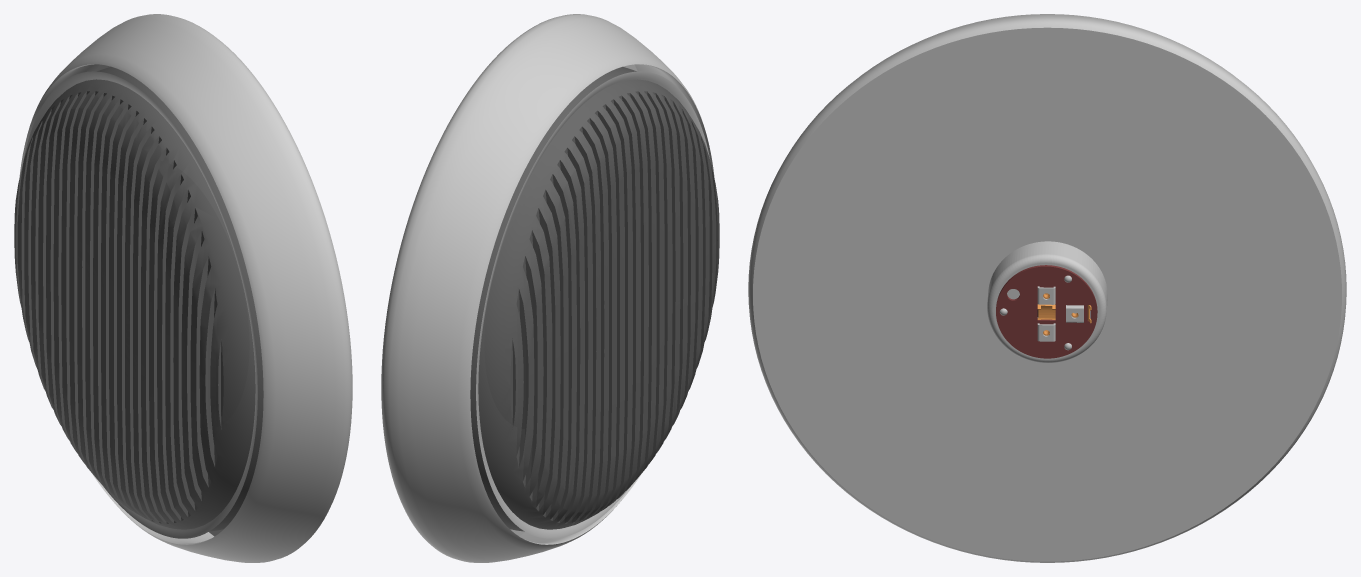
The model's file is headlight.obj.
The picture shows the model from 3 angles, left to right: view 1: azimuth 30°, elevation 25°; view 2: azimuth 150°, elevation 25°; view 3: azimuth 270°, elevation 25°; orthographic projection. The views are drawn at different scales.
Parts seen in each view (by area): view 1: Object_4_HeadLight_Glass, Object_52_Material.002_0, Object_54_Hammered_Metal; view 2: Object_4_HeadLight_Glass, Object_52_Material.002_0, Object_54_Hammered_Metal; view 3: Object_52_Material.002_0, Object_8_mat10, Object_26_Material.002, Object_10_Material.002.
Part boxes in pixels (x1,y1,x2,y2): Object_4_HeadLight_Glass: (14,66,263,531); Object_52_Material.002_0: (19,14,352,562); Object_54_Hammered_Metal: (23,71,257,538); Object_4_HeadLight_Glass: (470,66,719,531); Object_52_Material.002_0: (381,14,714,562); Object_54_Hammered_Metal: (476,71,710,538); Object_52_Material.002_0: (748,14,1346,562); Object_8_mat10: (996,265,1097,358); Object_26_Material.002: (987,241,1107,362); Object_10_Material.002: (999,275,1083,350).
Bounding box in the file's own units: 0.6974 × 2.33 × 2.33.
